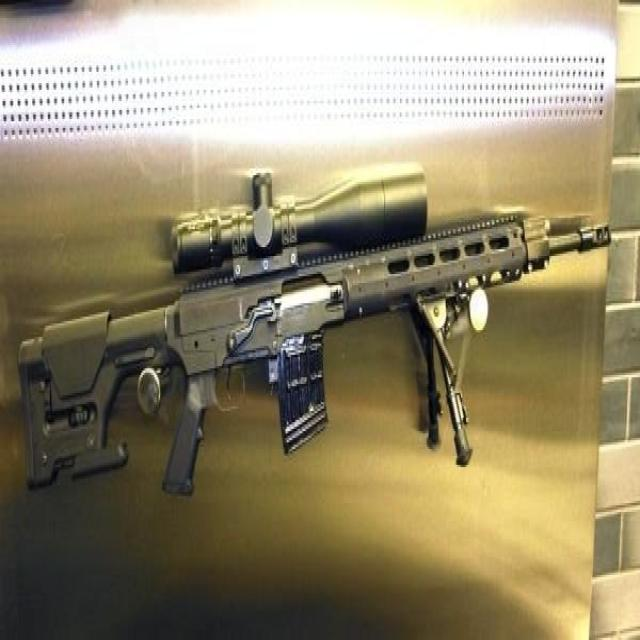firearm: (18, 166, 610, 495)
